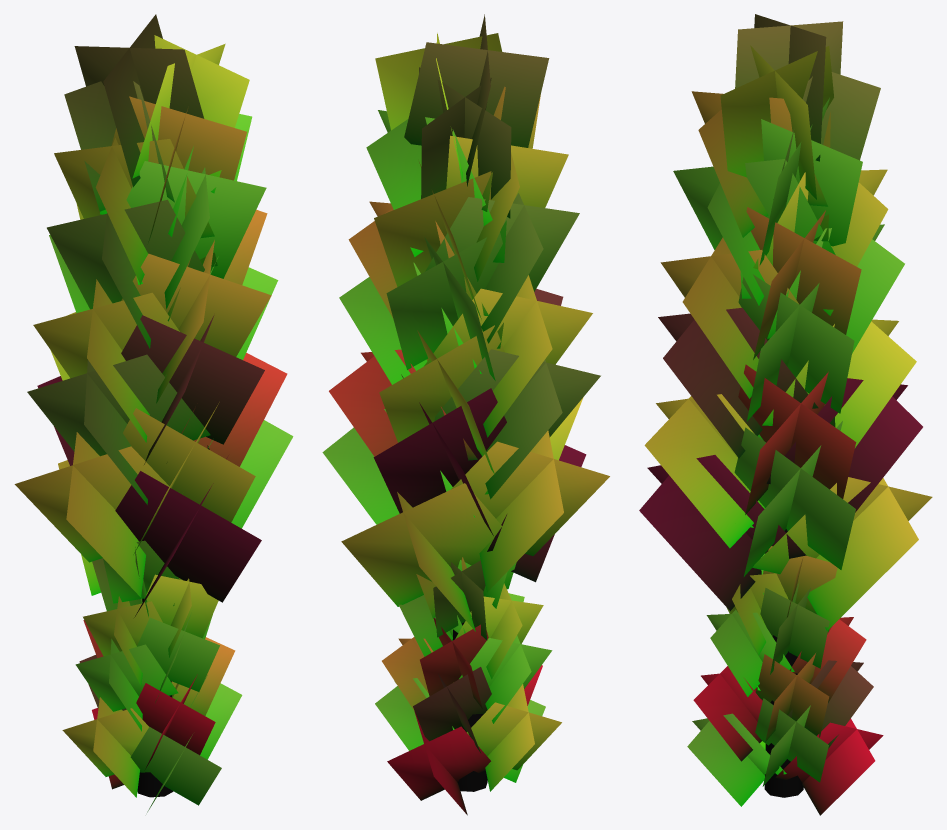
The model's file is Tree_13.fbx.
3 renders of one model, left to right at view 1: azimuth 30°, elevation 25°; view 2: azimuth 150°, elevation 25°; view 3: azimuth 270°, elevation 25°, orthographic.
Visible parts, largest first — view 1: Tree_13; view 2: Tree_13; view 3: Tree_13.
Boxes of the visible parts, bbox=[...] form: Tree_13: bbox=[14, 14, 293, 812]; Tree_13: bbox=[322, 14, 609, 815]; Tree_13: bbox=[639, 14, 932, 815].
Size of the model in its own units: 676 by 2030 by 698.
